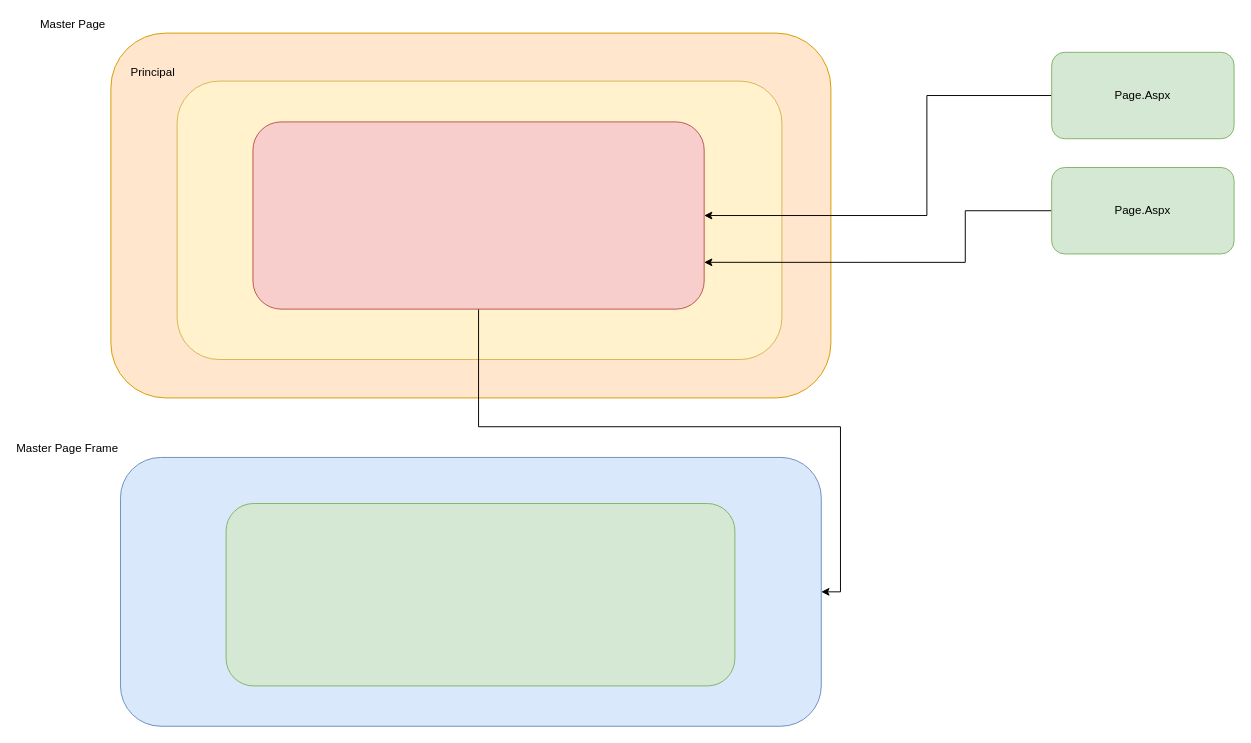
Image size: 1251x743. Some labels were removed from this diagram. Here are the shapes that lost their labels. From the top down, the centre of each, then its label:
At point 478,215: "Iframe".
At point 480,594: "Page.Aspx con Master Page".
